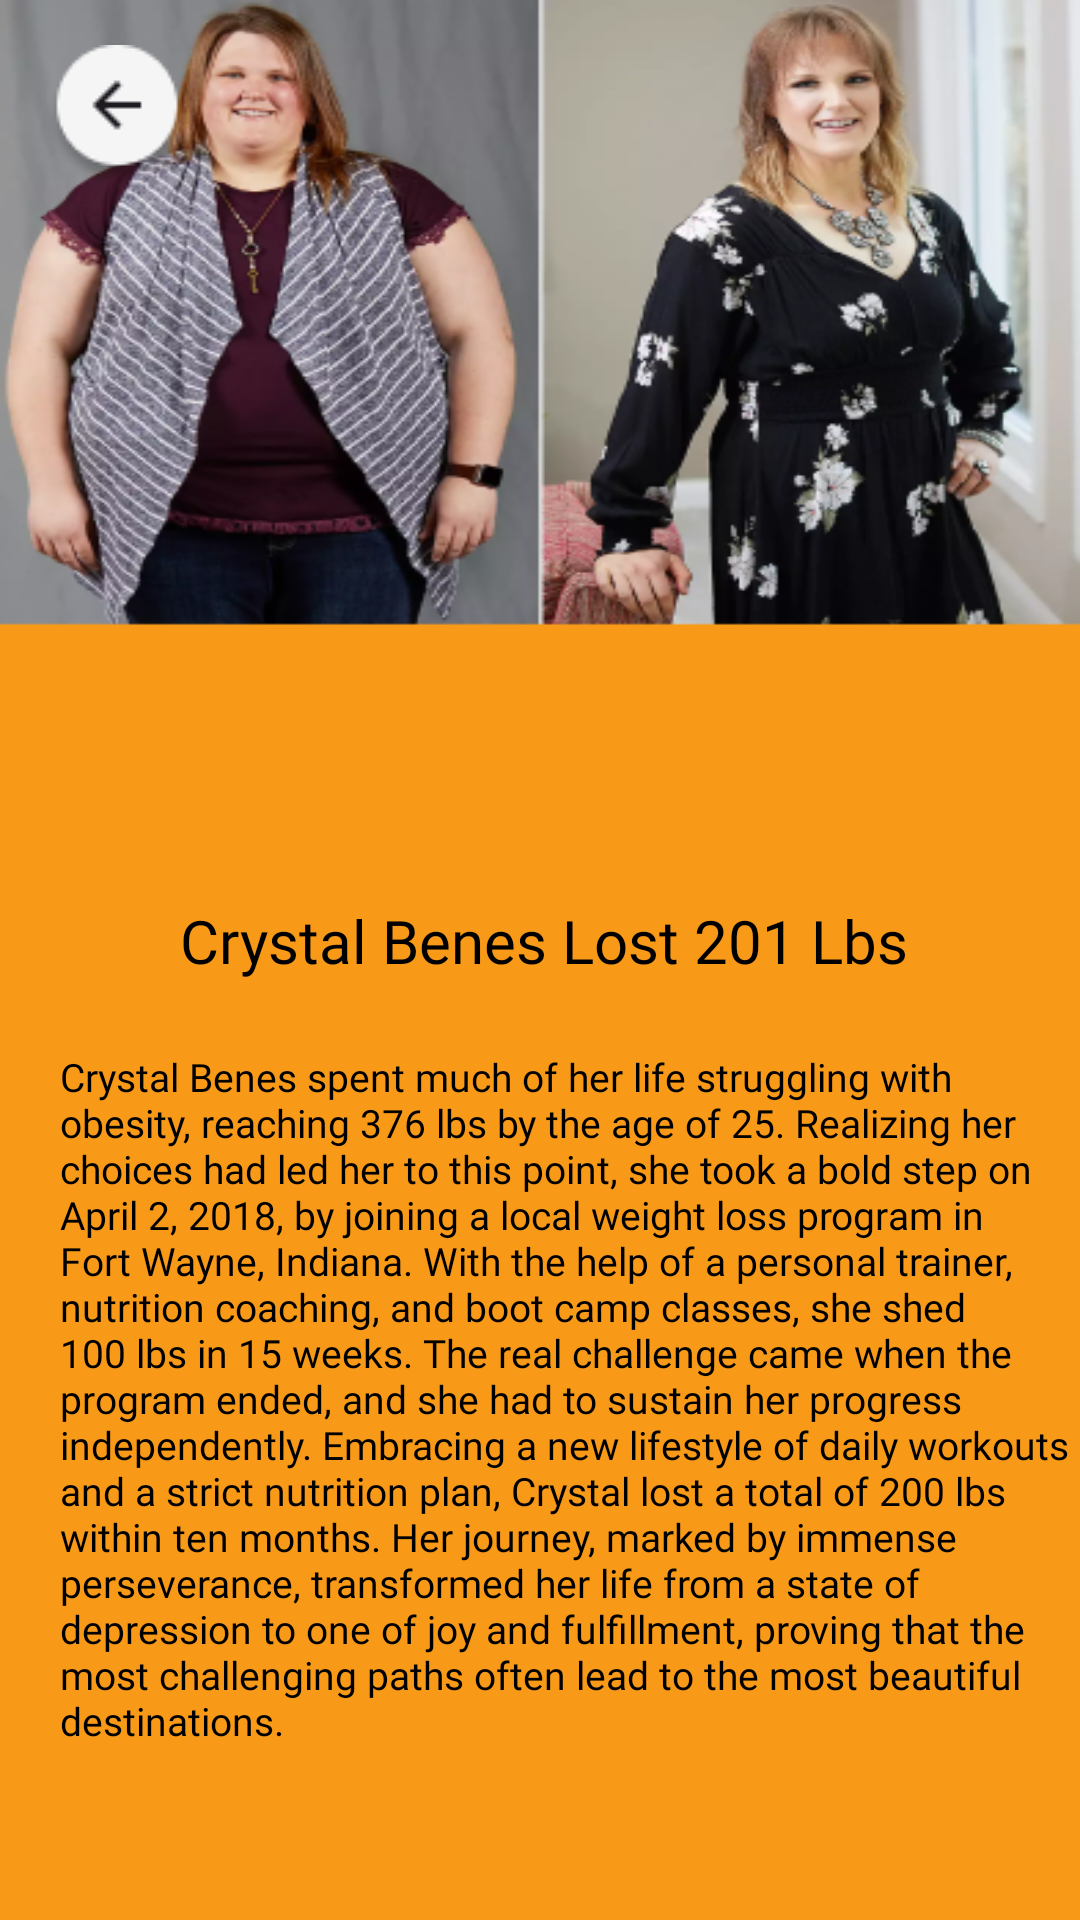

Named icons in this screenshot (1080 × 1920) and their bounding boxes, bbox=(x1, y1, x2, y2):
back: bbox=(56, 45, 189, 189)
